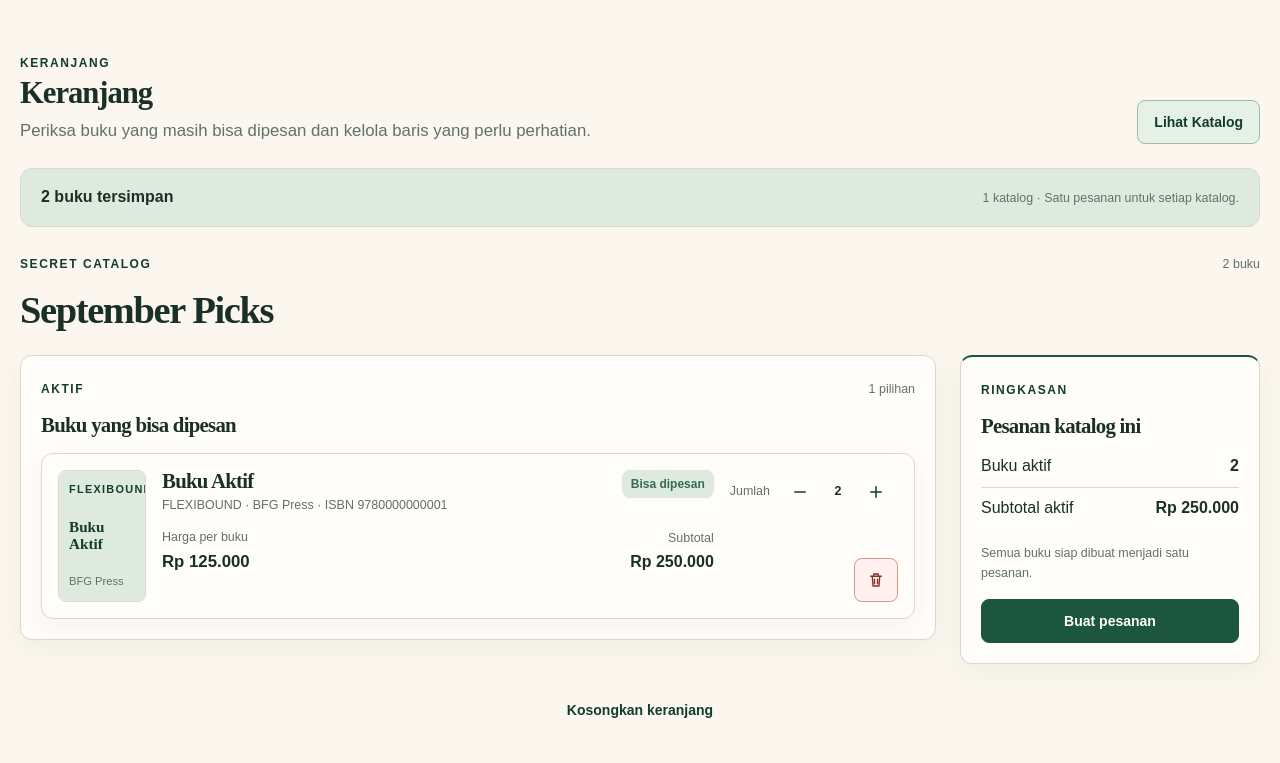
it: Customer Cart page › keeps the Customer on Cart with a safe checkout error
expect the heading "Buku yang bisa dipesan" is shown: met, box [41, 414, 236, 437]
Click the button "Buat pesanan" at (1110, 621), box [981, 599, 1239, 643]
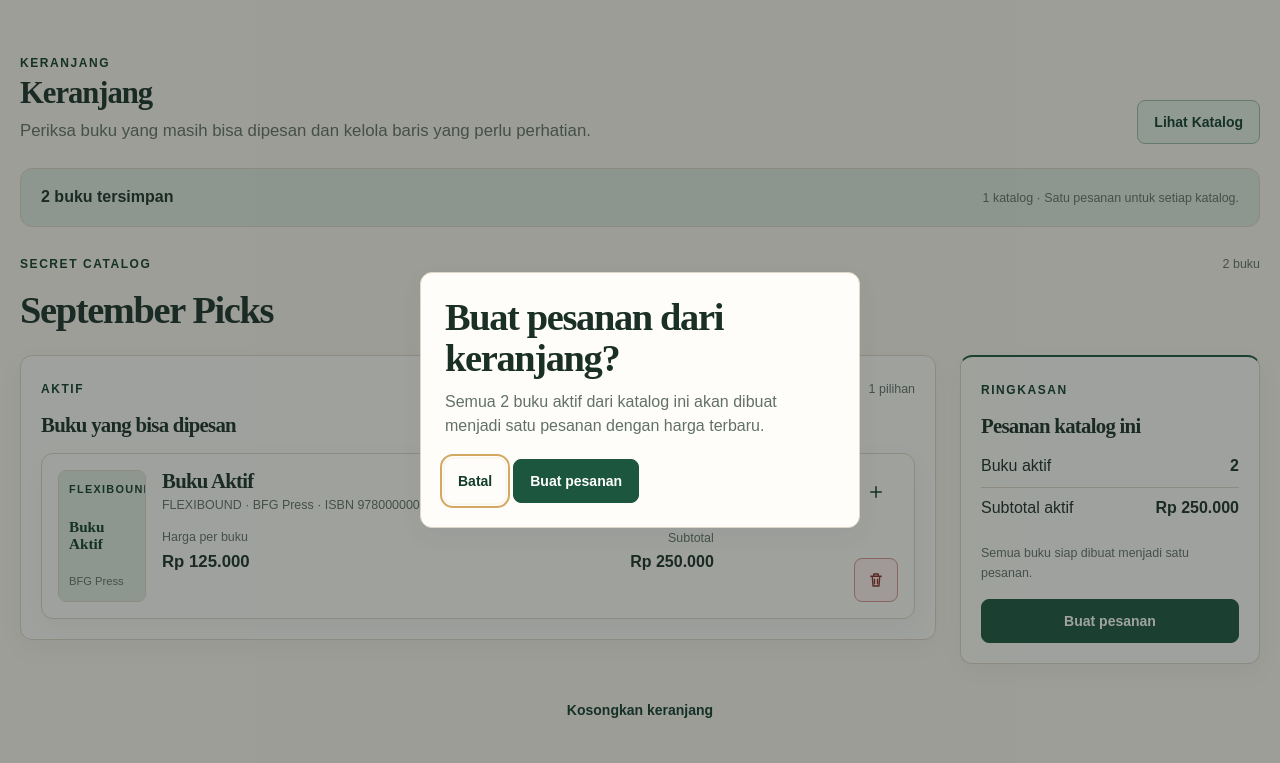
Click the button "Buat pesanan" at (576, 481), box [513, 459, 639, 503]
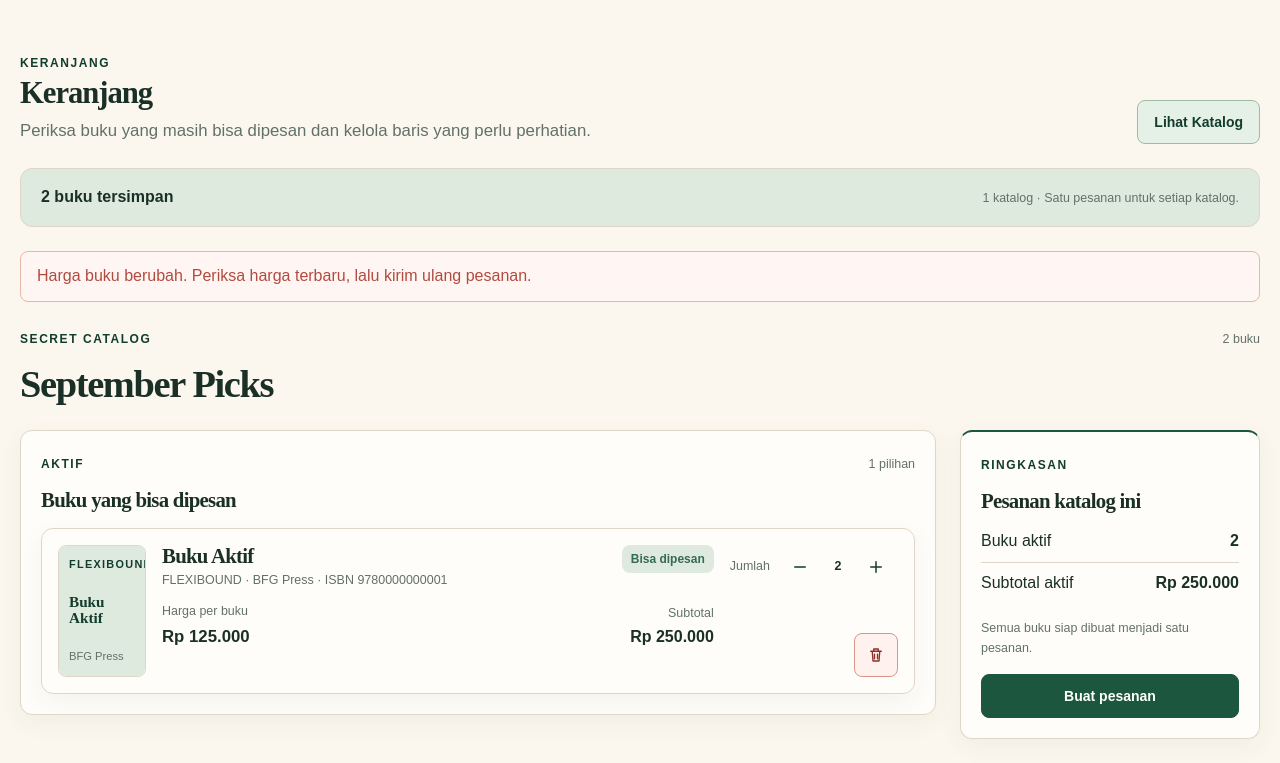
expect the message reads "Harga buku berubah. Periksa harga terbaru, lalu kirim ulang pesanan.": met, box [37, 267, 532, 284]
